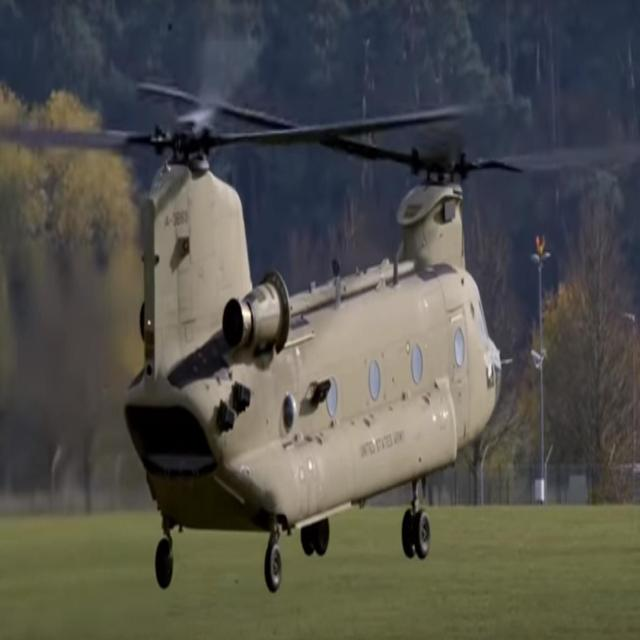Helicopter: (103, 60, 514, 573)
